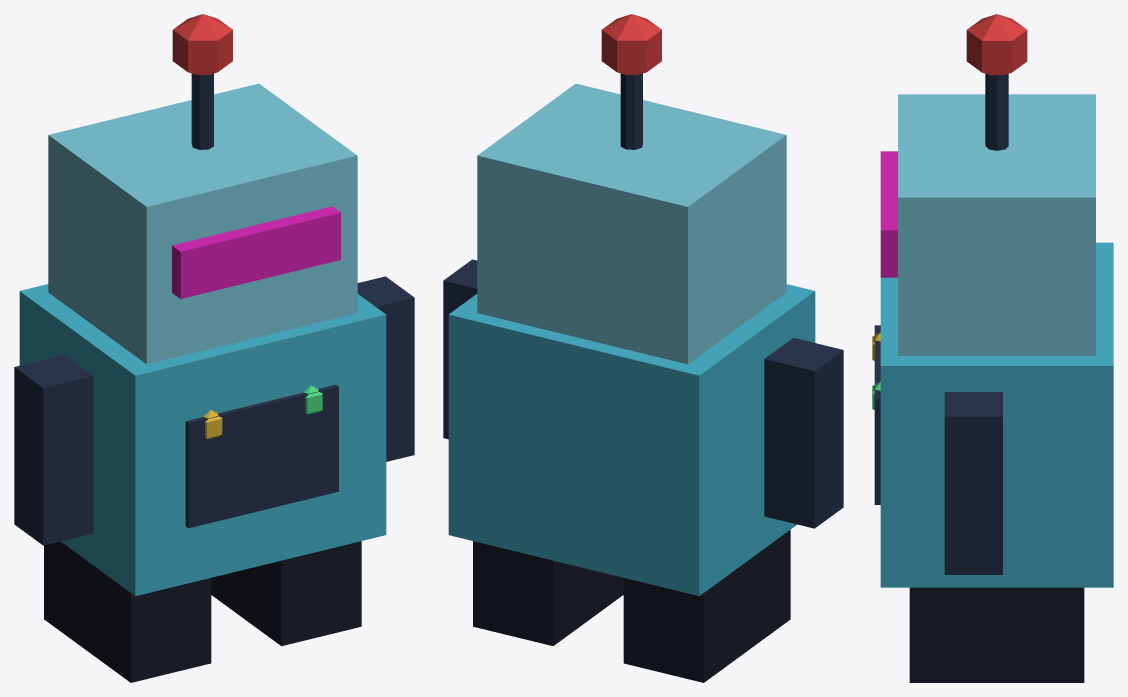
File: critter_robot.glb
The picture shows the model from 3 angles, left to right: view 1: azimuth 30°, elevation 25°; view 2: azimuth 150°, elevation 25°; view 3: azimuth 270°, elevation 25°; orthographic projection.
Parts seen in each view (by area): view 1: robot; view 2: robot; view 3: robot.
Part boxes in pixels (<box>): robot: <box>14,14,414,682</box>; robot: <box>443,14,843,682</box>; robot: <box>872,14,1113,682</box>.
Size of the model in its own units: 0.74 by 1.16 by 0.414.
